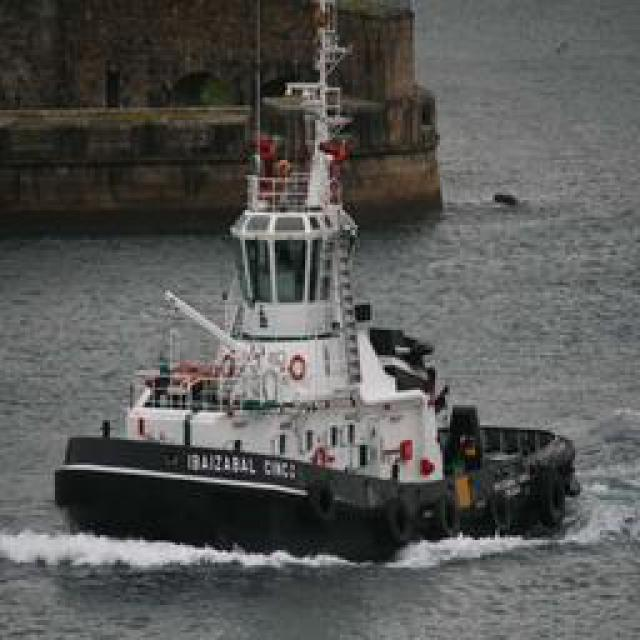Ship: (60, 105, 543, 555)
